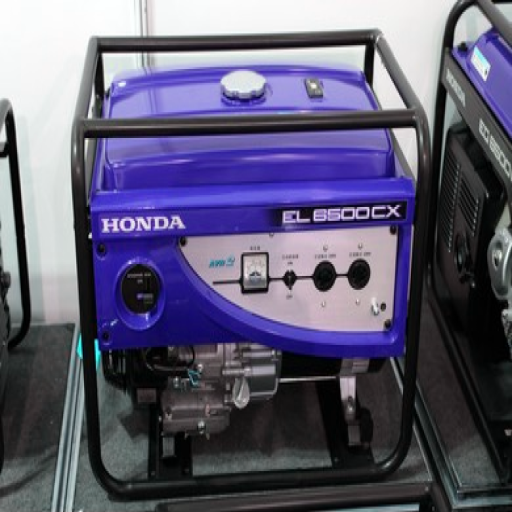portable_generator: (71, 27, 432, 501)
